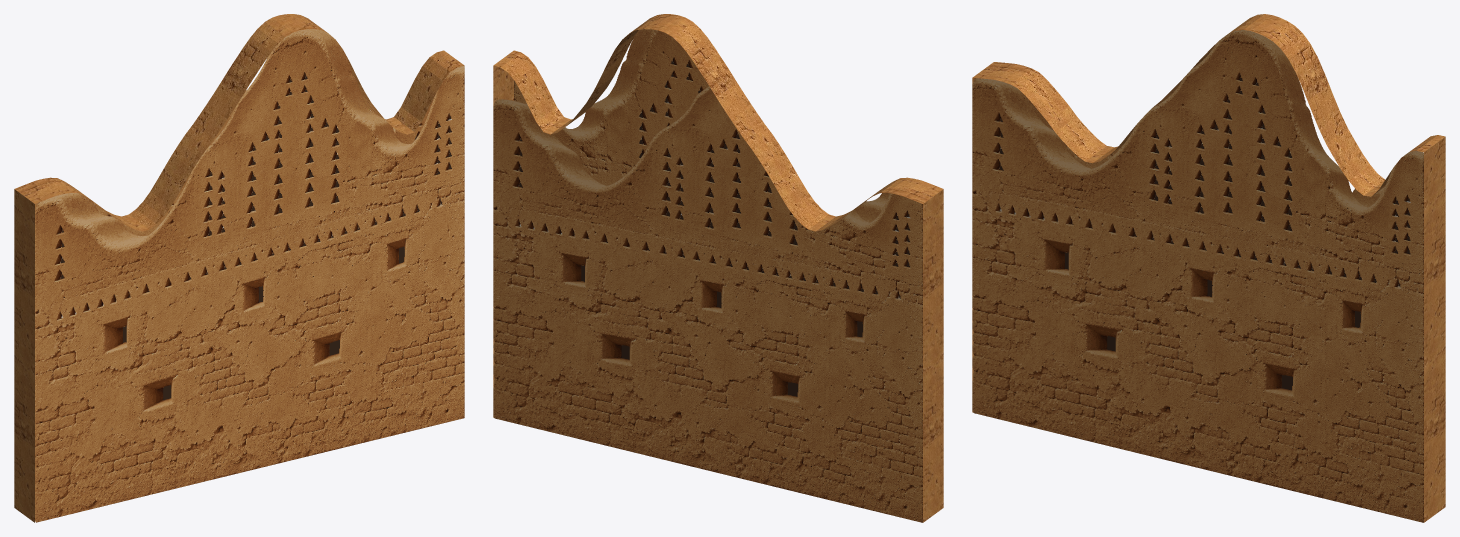
Rendered from facade_gable.glb.
The picture shows the model from 3 angles, left to right: view 1: azimuth 30°, elevation 25°; view 2: azimuth 150°, elevation 25°; view 3: azimuth 330°, elevation 25°; orthographic projection. The views are drawn at different scales.
Visible parts, largest first — view 1: FacadeGable; view 2: FacadeGable; view 3: FacadeGable.
Boxes of the visible parts, <box> form: FacadeGable: <box>14,14,464,522</box>; FacadeGable: <box>493,14,943,522</box>; FacadeGable: <box>972,14,1445,522</box>.
Size of the model in its own units: 6 by 5.71 by 0.5.
2 materials, 2 textured.
